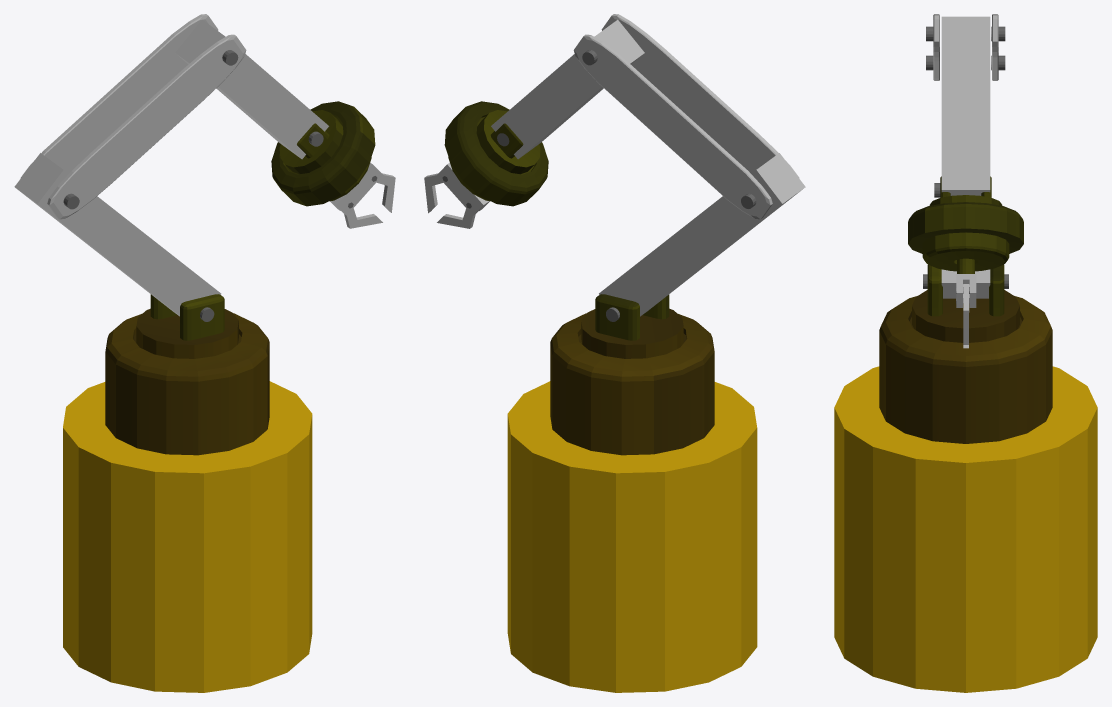
Rendered from SM_Prop_MetalArm_01.fbx.
3 renders of one model, left to right at view 1: azimuth 30°, elevation 25°; view 2: azimuth 150°, elevation 25°; view 3: azimuth 270°, elevation 25°, orthographic. The views are drawn at different scales.
Parts seen in each view (by area): view 1: SM_Prop_MetalArm_01; view 2: SM_Prop_MetalArm_01; view 3: SM_Prop_MetalArm_01.
Part boxes in pixels (x1=…): SM_Prop_MetalArm_01: x1=14, y1=14, x2=395, y2=692; SM_Prop_MetalArm_01: x1=424, y1=14, x2=805, y2=692; SM_Prop_MetalArm_01: x1=834, y1=14, x2=1097, y2=692.
Bounding box in the file's own units: 1.48 × 2.33 × 0.8742.
1 material, 1 textured.
